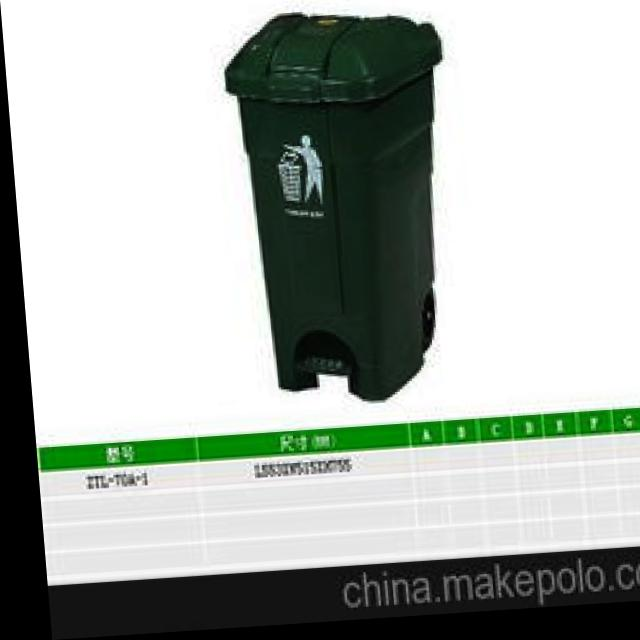garbage_bin: (214, 6, 459, 410)
